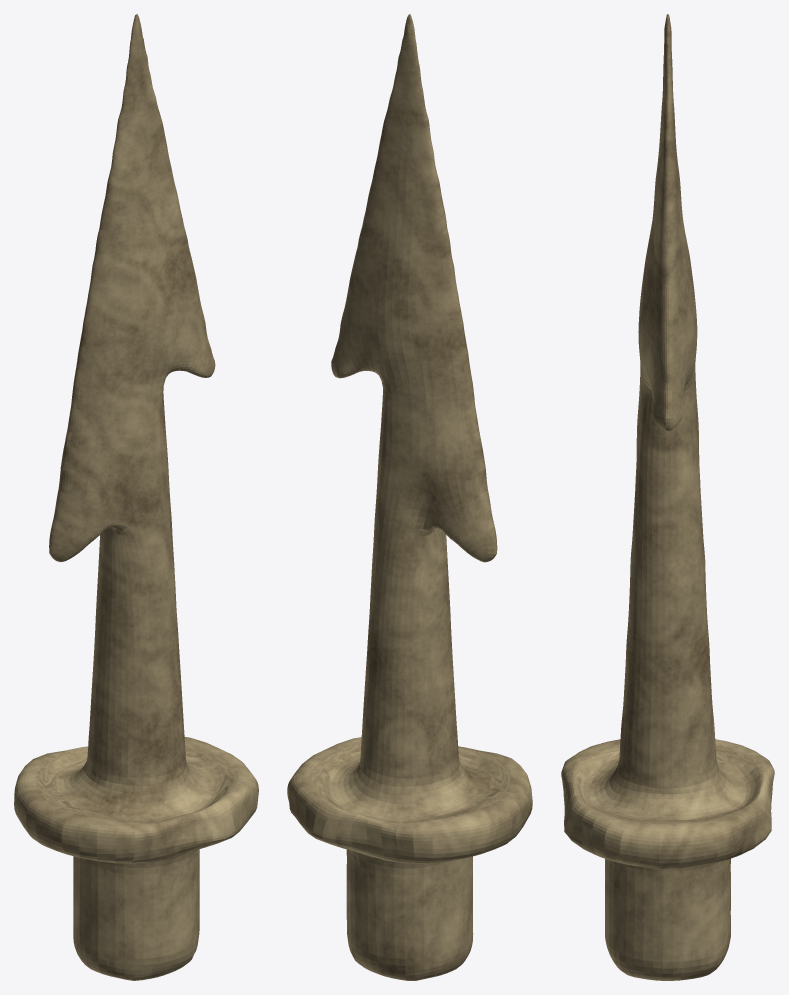
File: the harpoon tip.fbx
The picture shows the model from 3 angles, left to right: view 1: azimuth 30°, elevation 25°; view 2: azimuth 150°, elevation 25°; view 3: azimuth 270°, elevation 25°; orthographic projection.
Parts seen in each view (by area): view 1: the harpoon tip_Baked; view 2: the harpoon tip_Baked; view 3: the harpoon tip_Baked.
Part boxes in pixels (box(x1,y1,x2,y2)): the harpoon tip_Baked: box(14, 14, 258, 980); the harpoon tip_Baked: box(287, 14, 532, 980); the harpoon tip_Baked: box(561, 14, 774, 980).
Bounding box in the file's own units: 2.51 × 10.68 × 2.17.
